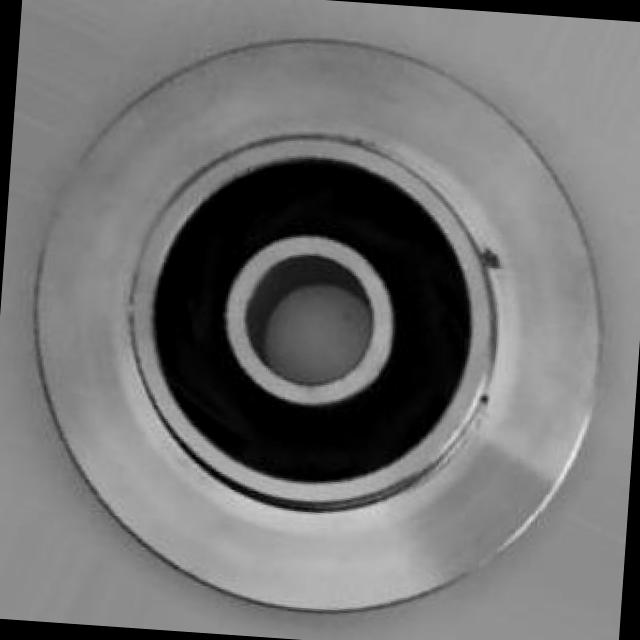Defect: (474, 238, 508, 280)
